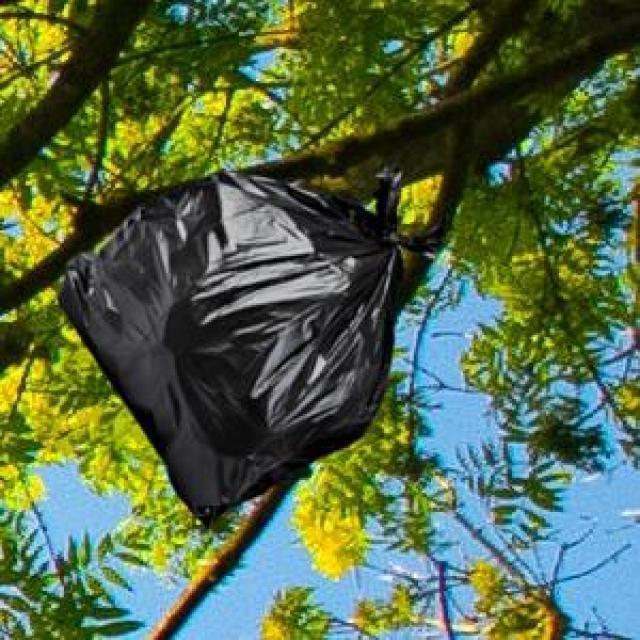Vinyl: (62, 172, 442, 521)
